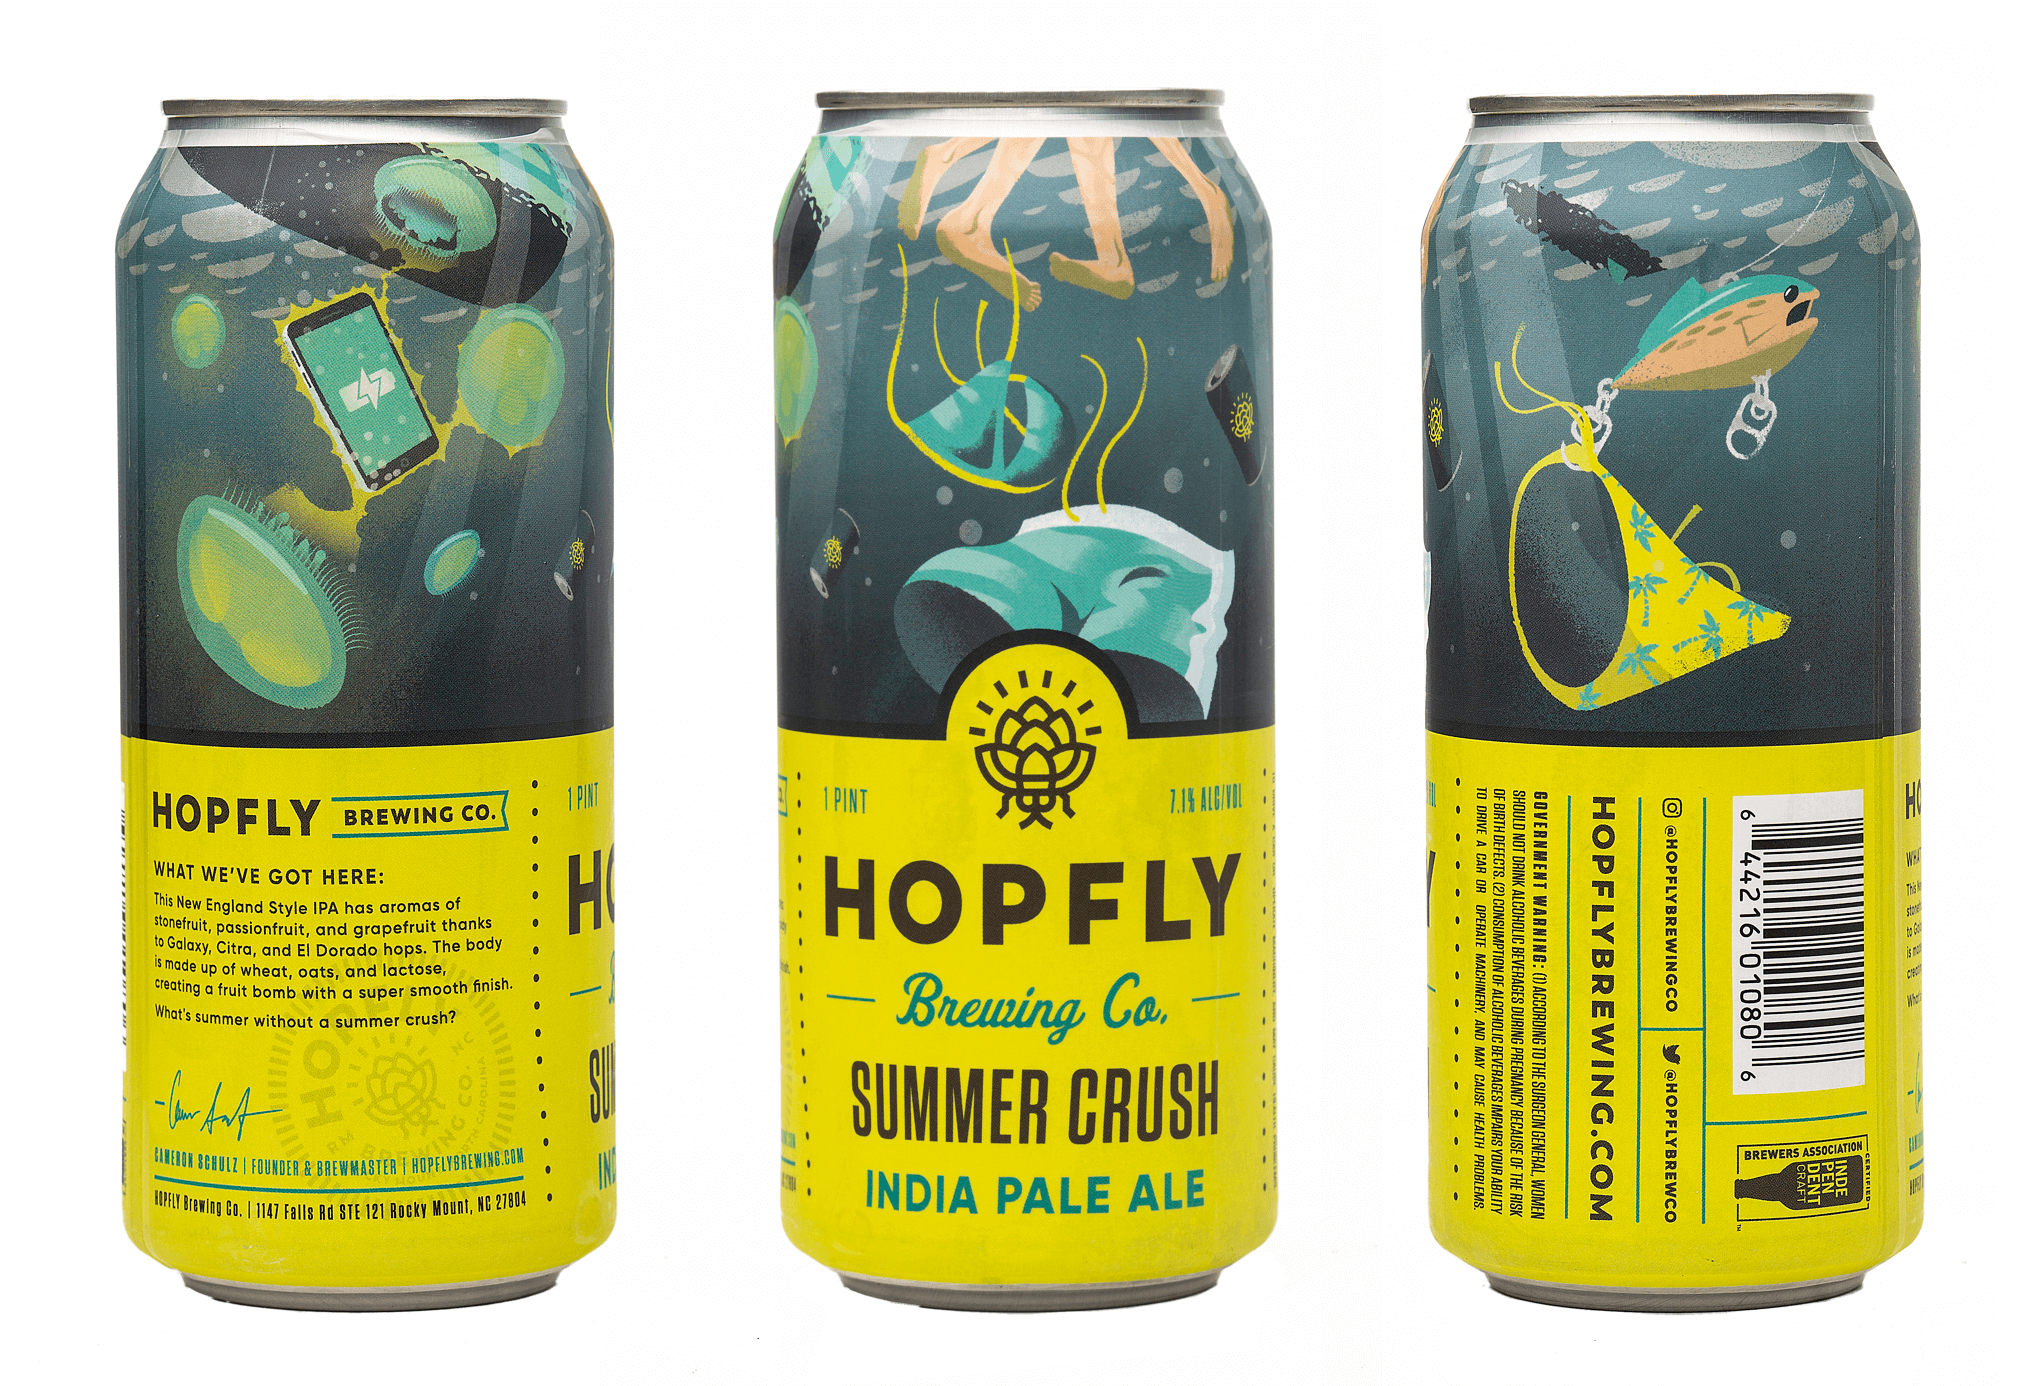beer can: (1404, 80, 1938, 1307), (101, 96, 633, 1307), (784, 79, 1281, 1333)
